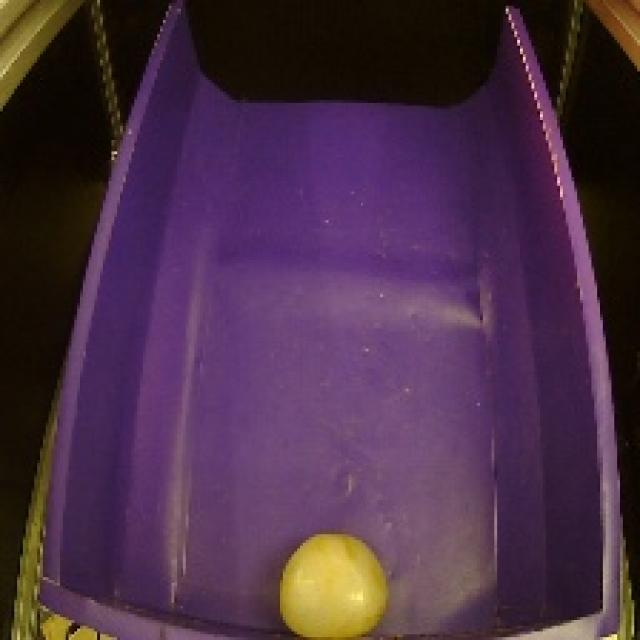cobbles: (264, 521, 396, 640)
